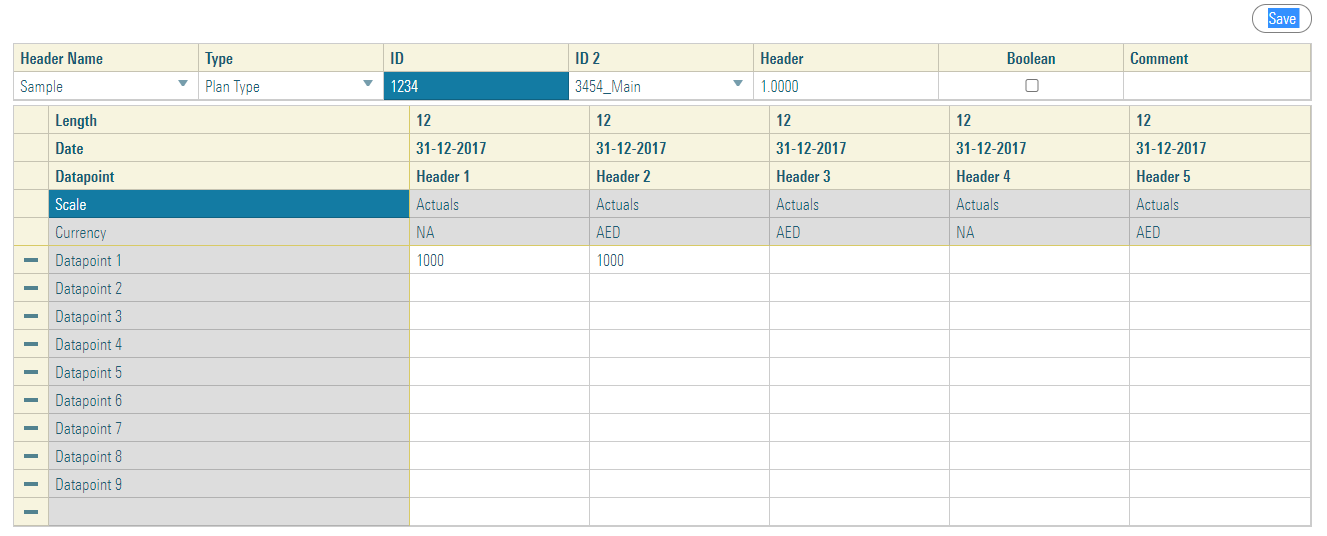checkbox: (1023, 77, 1041, 93)
dash: (22, 424, 40, 432), (21, 452, 39, 460), (22, 396, 39, 404), (22, 480, 40, 487), (22, 508, 39, 515), (21, 284, 40, 290), (23, 256, 39, 263), (22, 312, 38, 319), (22, 369, 40, 375), (22, 340, 39, 345)
div_rect: (51, 329, 410, 360), (49, 217, 408, 247), (49, 385, 408, 415), (51, 498, 408, 528), (50, 245, 411, 274), (49, 300, 410, 329), (50, 273, 410, 302), (50, 413, 409, 442), (50, 441, 408, 470), (49, 357, 408, 385), (50, 162, 408, 190), (48, 134, 409, 161), (49, 470, 409, 497), (49, 106, 408, 133), (49, 189, 407, 216), (11, 40, 201, 74), (197, 42, 385, 73), (1130, 300, 1313, 330), (1130, 440, 1312, 470), (409, 413, 589, 443), (768, 329, 948, 359), (769, 188, 948, 218), (1130, 188, 1309, 218), (769, 217, 947, 247), (590, 412, 768, 442), (1130, 498, 1314, 527), (591, 188, 768, 218), (1130, 413, 1313, 442), (409, 134, 591, 163), (768, 469, 950, 498), (768, 498, 950, 527), (949, 329, 1130, 358), (1131, 469, 1312, 498), (411, 189, 591, 218), (1124, 44, 1310, 72), (591, 217, 770, 246), (1130, 245, 1309, 274), (591, 328, 770, 357), (591, 273, 768, 302), (951, 106, 1128, 135), (409, 217, 591, 245), (11, 73, 199, 100), (1130, 133, 1311, 161), (768, 301, 949, 329), (769, 413, 950, 441), (949, 386, 1130, 414), (949, 413, 1130, 441), (1130, 385, 1311, 413), (409, 442, 589, 470), (409, 470, 589, 498), (409, 498, 589, 526), (770, 442, 950, 470), (950, 470, 1130, 498), (411, 245, 590, 273), (409, 301, 588, 329), (590, 300, 769, 328), (1131, 218, 1310, 246), (411, 330, 590, 358), (589, 498, 768, 526), (591, 134, 769, 162), (770, 133, 948, 161), (950, 134, 1128, 162), (950, 273, 1128, 301), (755, 44, 939, 71), (939, 44, 1123, 71), (591, 470, 768, 498), (768, 248, 950, 275), (1129, 275, 1311, 302), (1130, 331, 1312, 358), (769, 107, 950, 134), (589, 358, 770, 385), (768, 386, 949, 413), (949, 498, 1130, 525), (409, 105, 589, 132), (949, 189, 1129, 216), (950, 247, 1130, 274), (770, 358, 950, 385), (950, 442, 1130, 469), (1130, 359, 1310, 386), (410, 358, 589, 385), (410, 386, 589, 413), (590, 386, 769, 413), (590, 442, 769, 469), (950, 359, 1129, 386), (568, 44, 753, 70), (590, 106, 768, 133), (1131, 106, 1309, 133), (950, 302, 1128, 329), (591, 248, 768, 275), (770, 161, 947, 188), (384, 44, 567, 70), (768, 275, 950, 301), (948, 162, 1129, 188), (410, 275, 590, 301), (199, 74, 384, 99), (384, 73, 569, 98), (753, 73, 937, 98), (939, 73, 1122, 98), (949, 219, 1130, 244), (1125, 75, 1311, 99), (1131, 163, 1309, 188), (590, 162, 767, 187), (569, 74, 753, 98), (408, 164, 590, 188), (12, 190, 50, 217), (13, 302, 51, 329), (14, 329, 49, 358), (12, 441, 48, 469), (13, 469, 49, 497), (12, 498, 49, 525), (13, 163, 49, 190), (13, 359, 49, 386), (13, 415, 50, 441), (14, 105, 47, 134), (14, 217, 47, 246), (14, 246, 49, 273), (13, 134, 47, 160), (14, 275, 48, 301), (14, 387, 48, 413)
div_round: (1250, 1, 1314, 36)
text: (53, 279, 125, 298), (53, 307, 124, 325), (53, 390, 124, 408), (53, 252, 123, 270), (54, 475, 123, 493), (53, 336, 125, 353), (53, 363, 125, 380), (53, 419, 123, 436), (53, 448, 122, 465), (574, 78, 642, 95), (53, 223, 106, 242), (204, 78, 262, 95), (414, 196, 460, 213), (594, 197, 641, 213), (773, 197, 820, 213), (955, 197, 1000, 213), (1134, 197, 1179, 213), (19, 78, 64, 94), (1268, 7, 1300, 28), (53, 195, 90, 213), (759, 78, 800, 94), (593, 252, 628, 270), (414, 252, 448, 270), (389, 78, 420, 95), (776, 223, 804, 241), (595, 223, 622, 241), (1135, 223, 1162, 240), (954, 223, 976, 240), (414, 223, 437, 239)
text_bold: (19, 49, 106, 67), (955, 139, 1028, 158), (415, 139, 489, 156), (53, 166, 116, 185), (775, 140, 849, 156), (1135, 140, 1208, 156), (595, 139, 667, 155), (1135, 167, 1193, 186), (594, 167, 653, 185), (415, 167, 471, 185), (955, 168, 1012, 185), (1128, 51, 1191, 66), (775, 168, 832, 184), (1004, 50, 1057, 67), (53, 111, 99, 129), (757, 50, 806, 66), (204, 49, 236, 67), (53, 139, 84, 157), (573, 50, 603, 66), (388, 48, 407, 66), (1134, 111, 1153, 129), (415, 111, 433, 129), (595, 111, 613, 128), (955, 111, 973, 128), (775, 111, 792, 128)
triangle_down: (362, 78, 375, 86), (176, 79, 190, 86), (733, 78, 744, 86)
